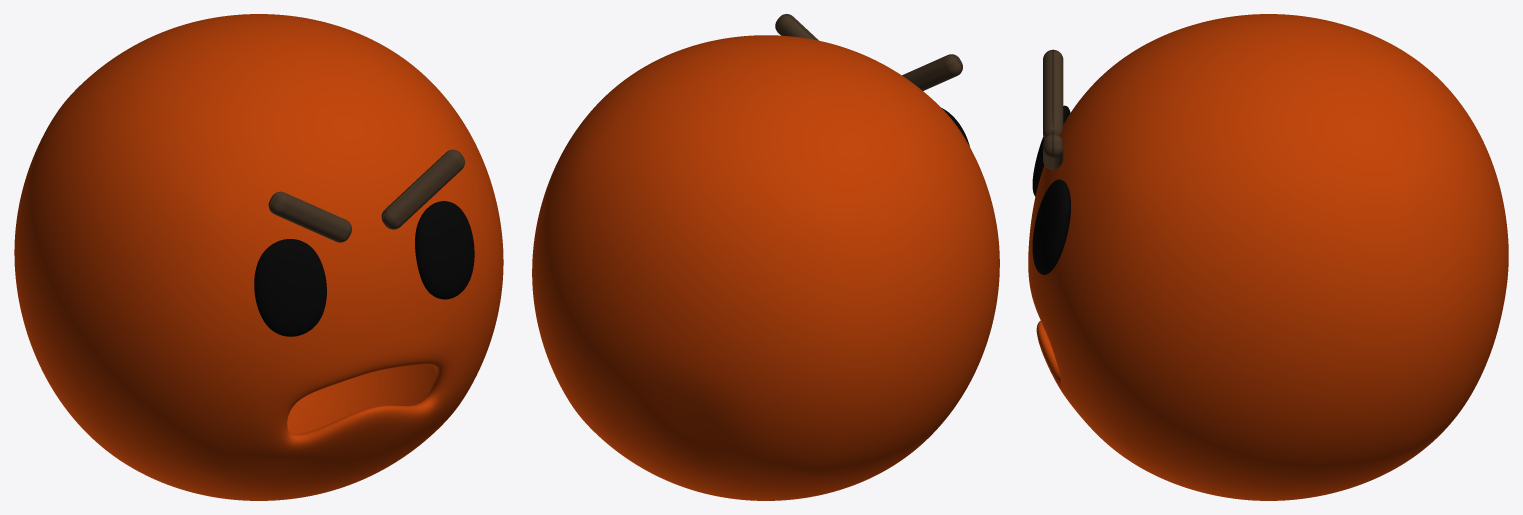
File: Angry Face.glb
3 views of the same model, side by side, from view 1: azimuth 30°, elevation 25°; view 2: azimuth 150°, elevation 25°; view 3: azimuth 270°, elevation 25° (orthographic). The views are drawn at different scales.
Visible parts, largest first — view 1: Cube_Cube.007, Cube.001_Cube.004, Cube.002; view 2: Cube_Cube.007, Cube.002; view 3: Cube_Cube.007, Cube.001_Cube.004, Cube.002.
Part boxes in pixels (x1,y1,x2,y2): Cube_Cube.007: (14, 14, 503, 500); Cube.001_Cube.004: (254, 201, 474, 336); Cube.002: (268, 149, 464, 242); Cube_Cube.007: (532, 35, 999, 500); Cube.002: (775, 14, 962, 90); Cube_Cube.007: (1028, 14, 1508, 500); Cube.001_Cube.004: (1032, 105, 1070, 274); Cube.002: (1043, 49, 1063, 170).
Bounding box in the file's own units: 1.66 × 1.66 × 1.66.
